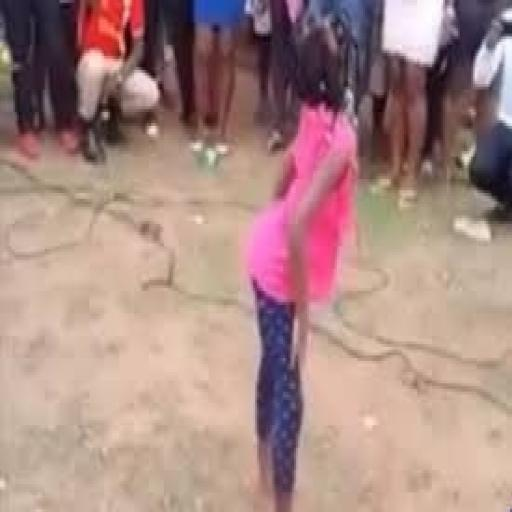dancing: (242, 20, 363, 509)
